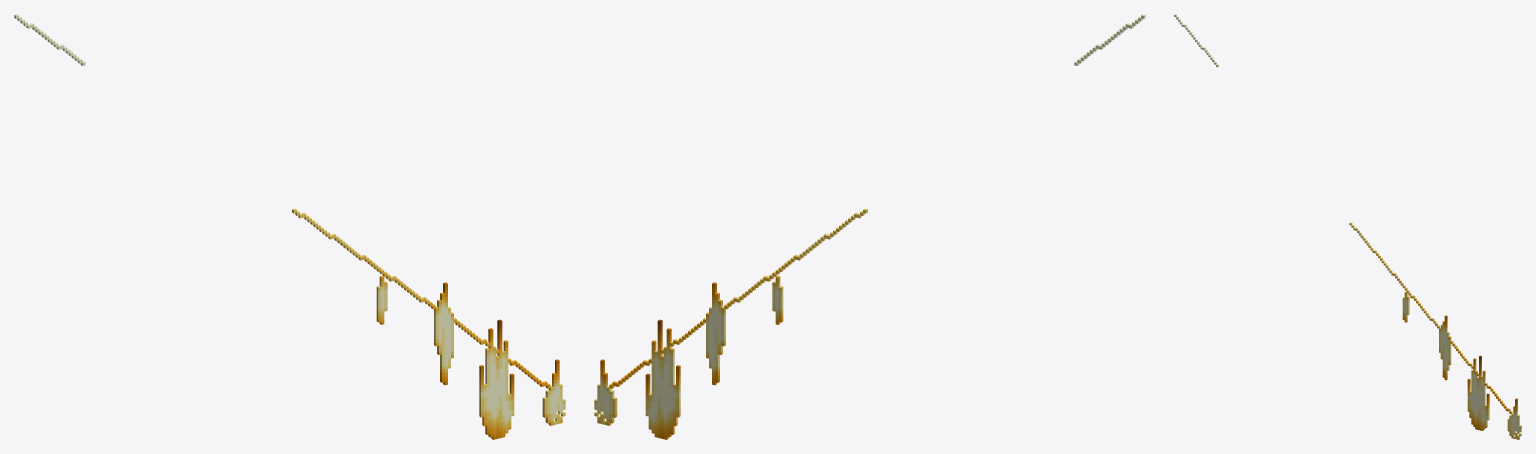
Rendered from Fight_745_2_12_fx.obj.
3 renders of one model, left to right at view 1: azimuth 30°, elevation 25°; view 2: azimuth 150°, elevation 25°; view 3: azimuth 330°, elevation 25°, orthographic. The views are drawn at different scales.
Size of the model in its own units: 18.2 by 17.1 by 0.1.
